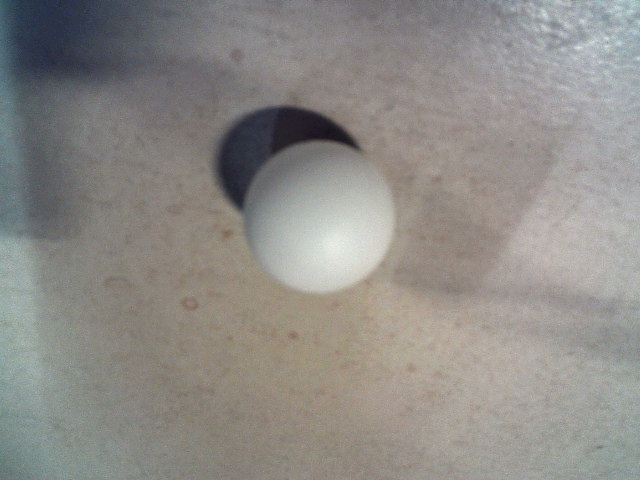pingpong: (242, 139, 395, 291)
